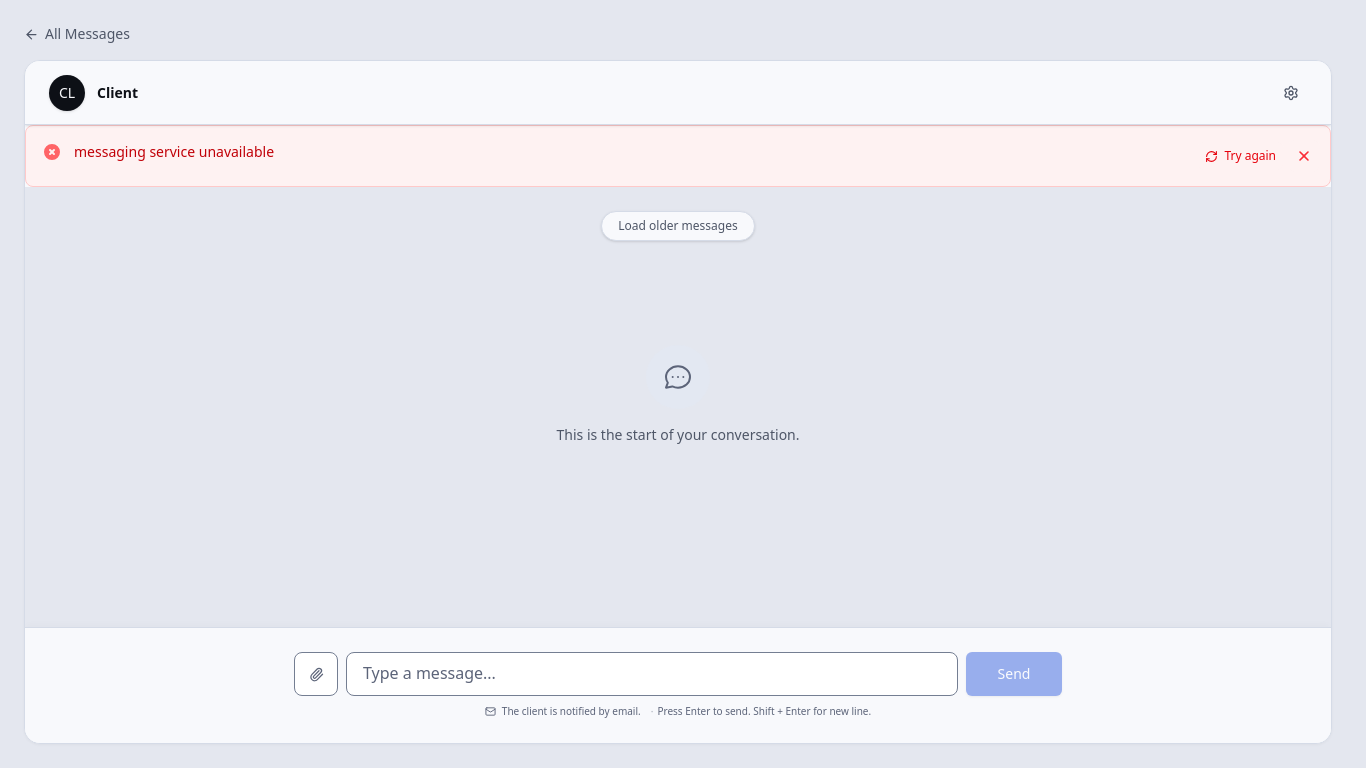
Test: an API failure, with retry › recovers the real thread once the retry succeeds
The width and height of the screenshot is (1366, 768).
Click the button "Try again": point(1241, 156) [1197,142,1284,170]
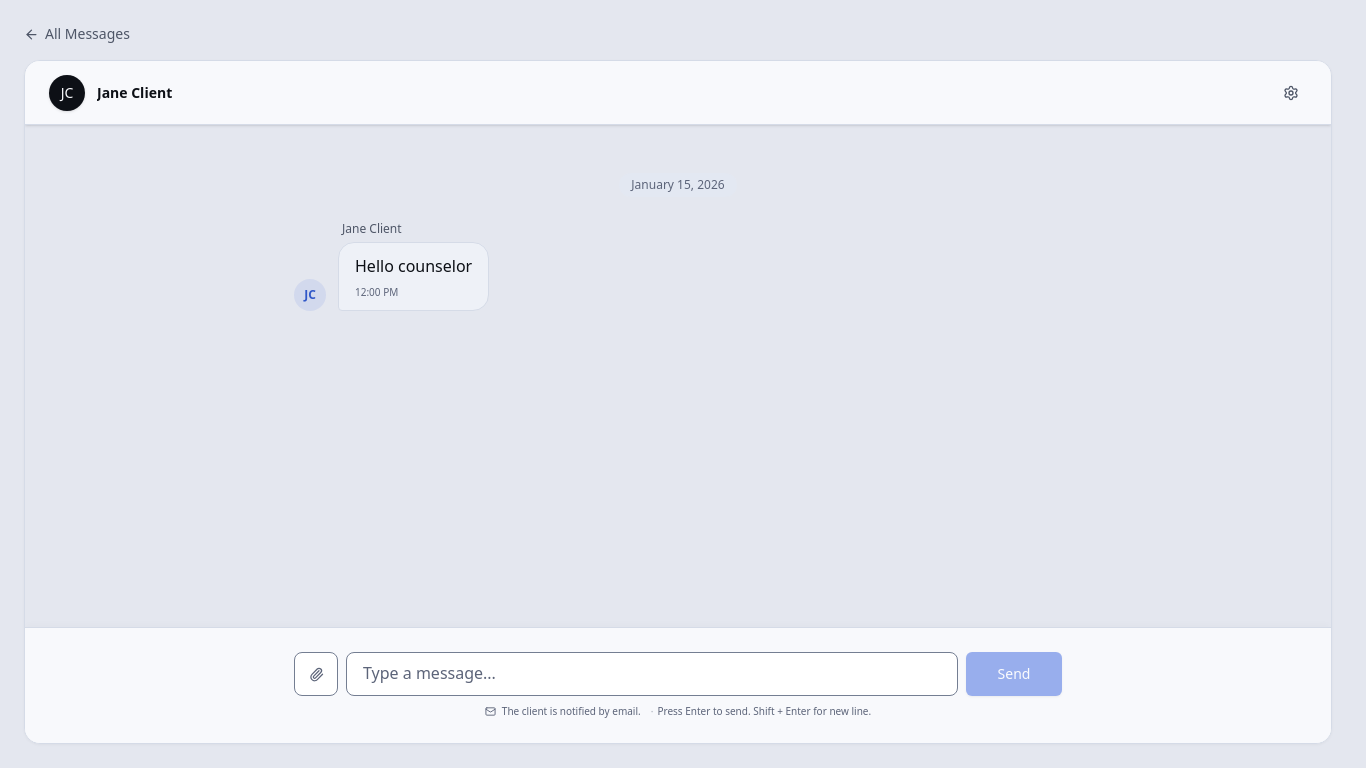
Check: the message "messaging service unavailable Try again" is gone
Check: the text "Hello counselor" is shown, box [355,252,472,278]
